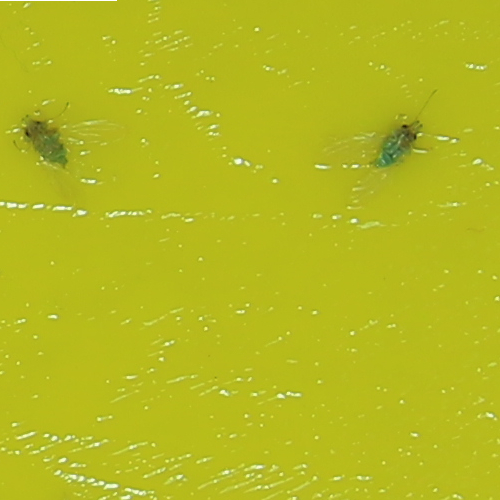Glycaspis: (370, 119, 423, 169), (20, 116, 67, 166)
